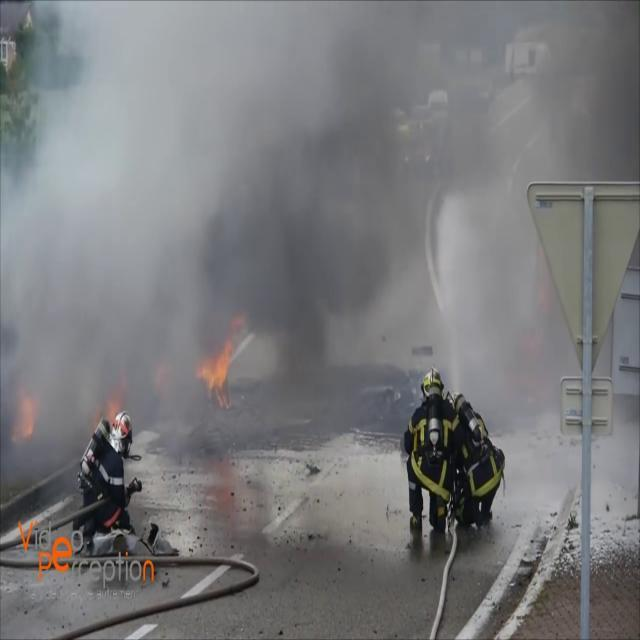Fire: (15, 512, 74, 568)
Smoke: (0, 3, 638, 489)
